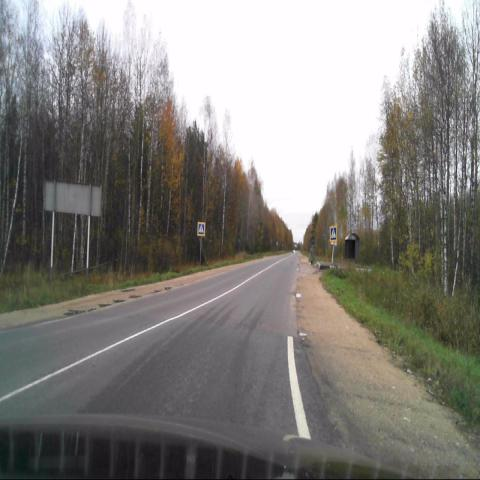5_19_1: (329, 225, 337, 242), (197, 222, 205, 236)
